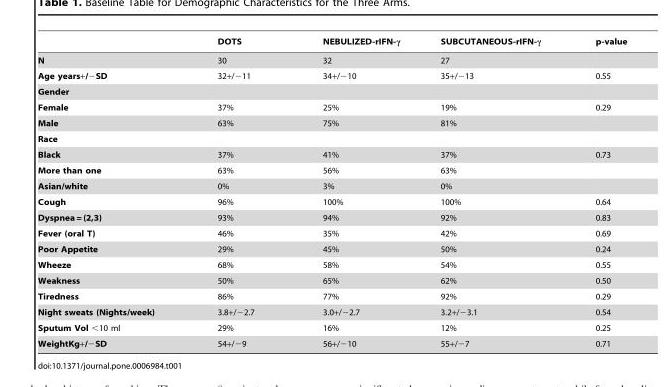table: (37, 36, 626, 348)
table column: (37, 36, 185, 348), (419, 36, 567, 348), (287, 36, 419, 348), (185, 36, 287, 348), (567, 36, 626, 348)
table column header: (37, 36, 626, 50)
table projected row header: (37, 83, 626, 99), (37, 130, 626, 146)
table row: (37, 66, 626, 83), (37, 303, 626, 320), (37, 50, 626, 66), (37, 83, 626, 99), (37, 99, 626, 115), (37, 130, 626, 146), (37, 146, 626, 162), (37, 162, 626, 178), (37, 193, 626, 209), (37, 209, 626, 225), (37, 225, 626, 241), (37, 256, 626, 272), (37, 272, 626, 288), (37, 115, 626, 130), (37, 178, 626, 193), (37, 241, 626, 256), (37, 288, 626, 303), (37, 36, 626, 50), (37, 320, 626, 334), (37, 334, 626, 348)
